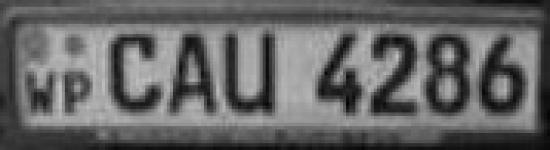2: (369, 26, 422, 122)
4: (309, 25, 367, 121)
6: (476, 24, 532, 125)
8: (422, 24, 473, 125)
A: (168, 29, 221, 123)
C: (104, 29, 166, 119)
P: (62, 66, 95, 122)
U: (221, 27, 282, 121)
W: (22, 64, 58, 118)
